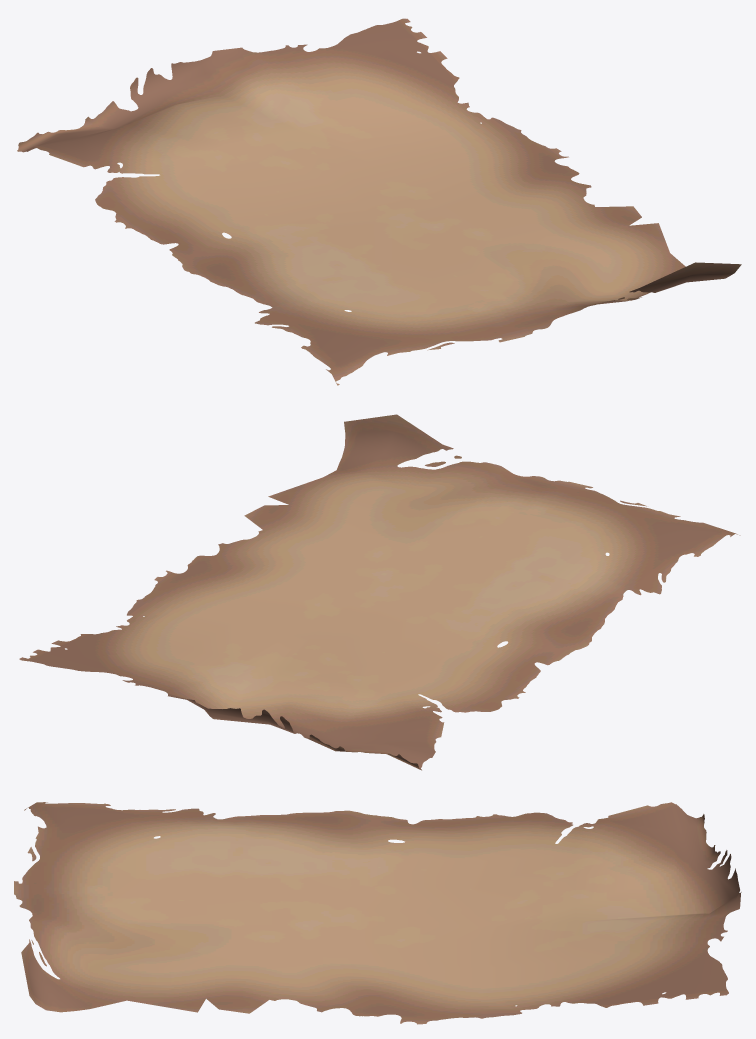
File: SM_Paper.gltf
3 renders of one model, top to bottom at view 1: azimuth 30°, elevation 25°; view 2: azimuth 150°, elevation 25°; view 3: azimuth 270°, elevation 25°, orthographic. The views are drawn at different scales.
Parts seen in each view (by area): view 1: SM_Paper; view 2: SM_Paper; view 3: SM_Paper.
Part boxes in pixels (box(x1,y1,x2,y2)): SM_Paper: box(17, 18, 741, 385); SM_Paper: box(19, 414, 740, 770); SM_Paper: box(14, 802, 741, 1024).
Bounding box in the file's own units: 0.3118 × 0.0303 × 0.4517.
1 material, 1 textured.
